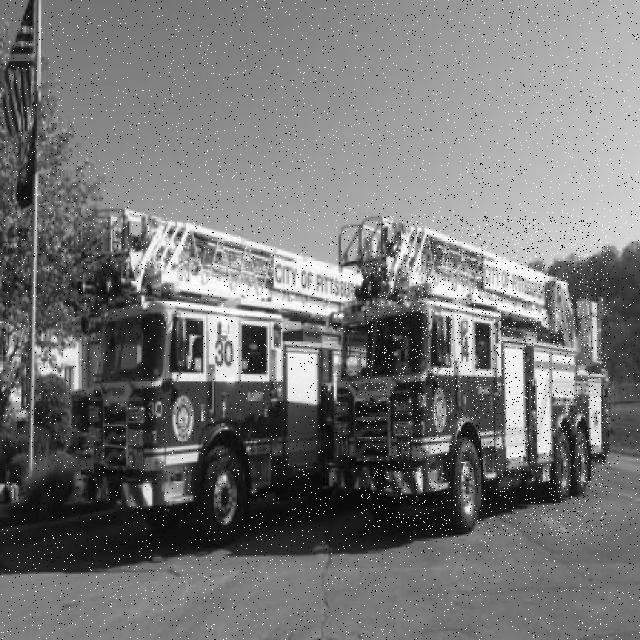Fire Truck: (72, 205, 363, 542), (325, 216, 610, 536)
